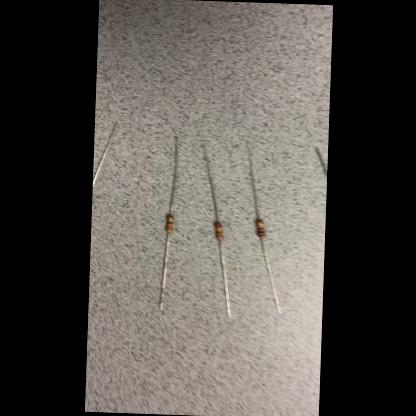resistor: (254, 220, 264, 236), (214, 223, 223, 240), (164, 215, 173, 232)
wire: (256, 236, 283, 314), (198, 144, 221, 222), (92, 122, 118, 187), (243, 141, 263, 220), (214, 240, 233, 318), (158, 232, 170, 308), (167, 136, 177, 214)
